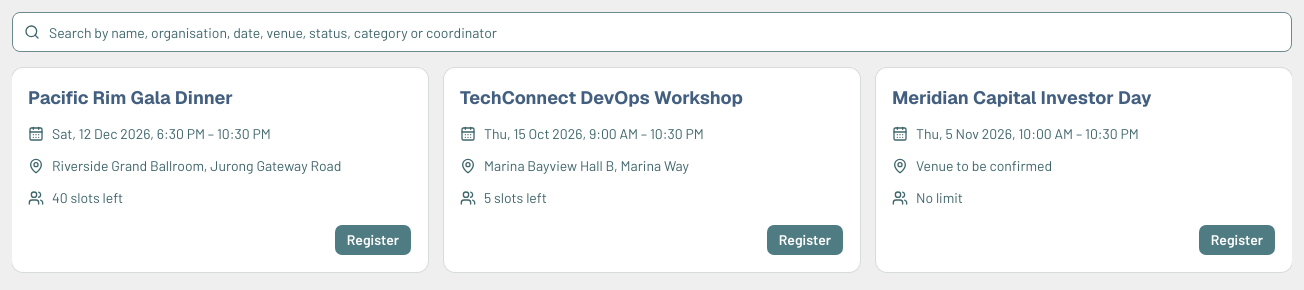
Scenario: SCRUM-9/AC1 event search box › 9-S20: the clear button empties the box and shows every event again
The width and height of the screenshot is (1304, 290).
Replace the text in the search field named "Search events" with "gala" at (652, 32), box [12,12,1292,52]
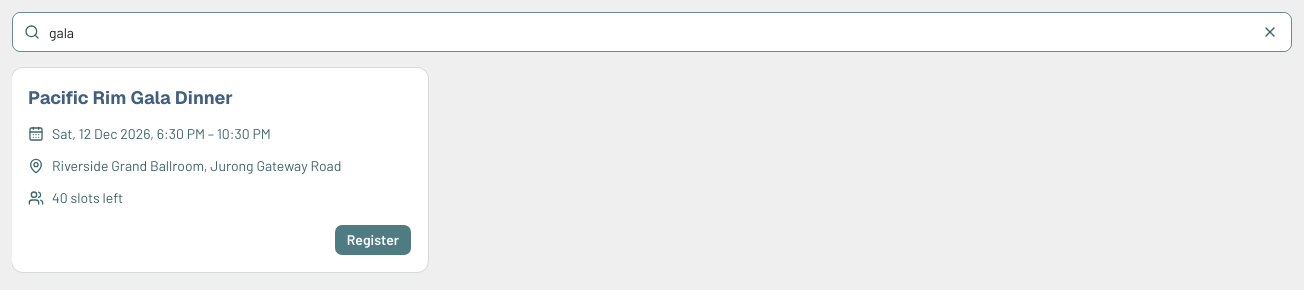
Click the button named "Clear search" at (1270, 32), box [1256,18,1284,46]
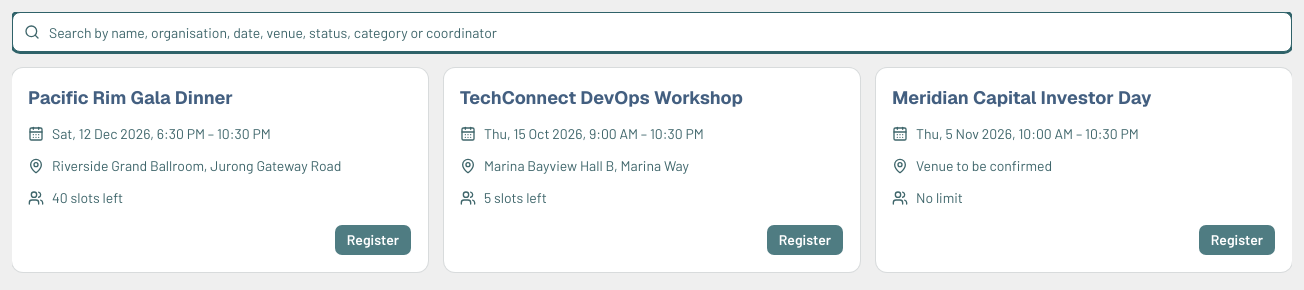
Now the search field named "Search events" is empty, box [12,12,1292,52]
